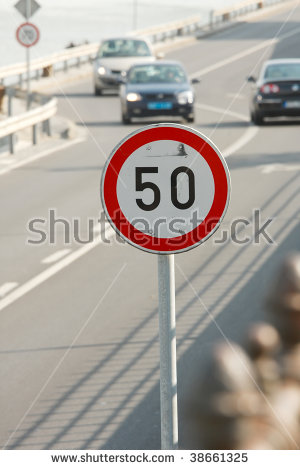Speed_limit_50km: (99, 125, 233, 252)
